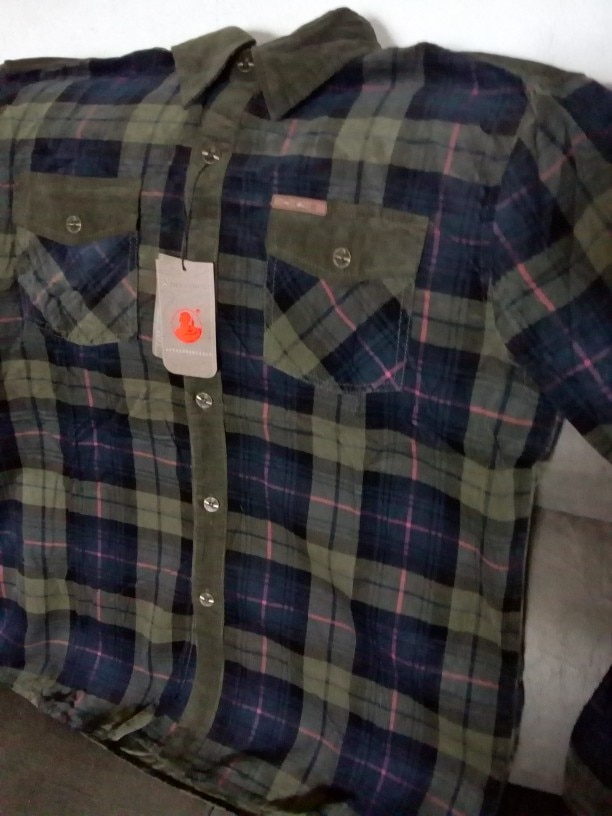shirts: (7, 15, 612, 747)
